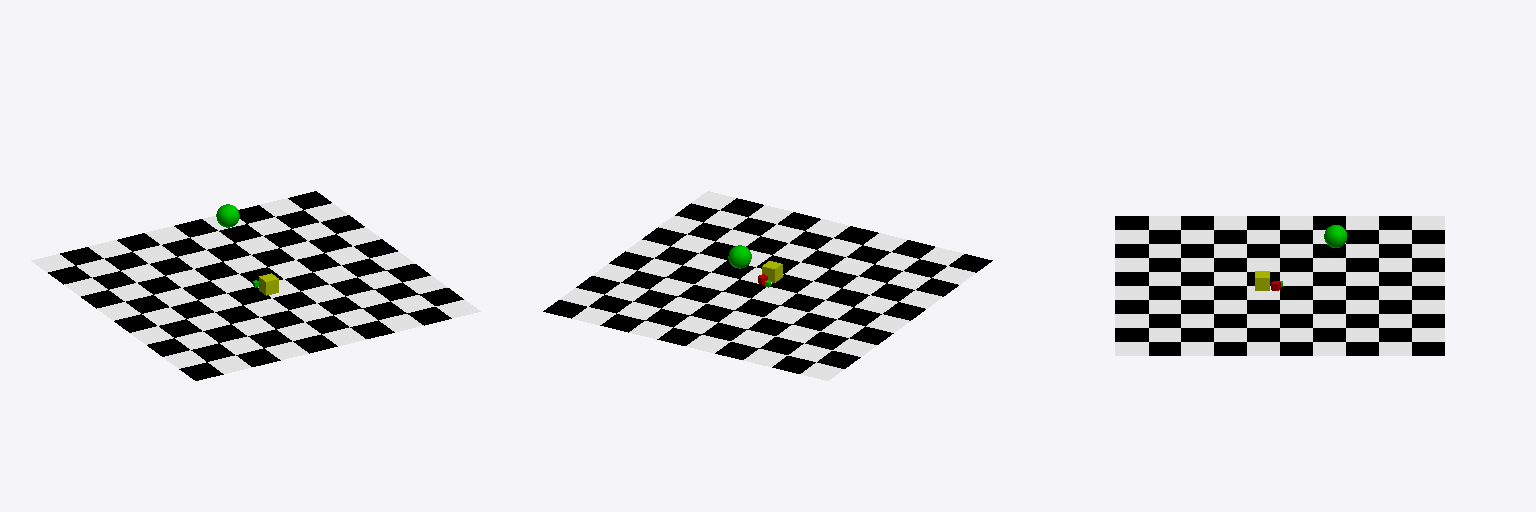
3 views of the same model, side by side, from view 1: azimuth 30°, elevation 25°; view 2: azimuth 150°, elevation 25°; view 3: azimuth 270°, elevation 25° (orthographic).
Visible parts, largest first — view 1: Testing; view 2: Testing; view 3: Testing.
Boxes of the visible parts, x1=… form: Testing: x1=31, y1=191, x2=480, y2=380; Testing: x1=543, y1=191, x2=992, y2=380; Testing: x1=1115, y1=216, x2=1444, y2=355.
Size of the model in its own units: 26.14 by 5.28 by 26.14.
Materials: 4 (1 with a texture image).